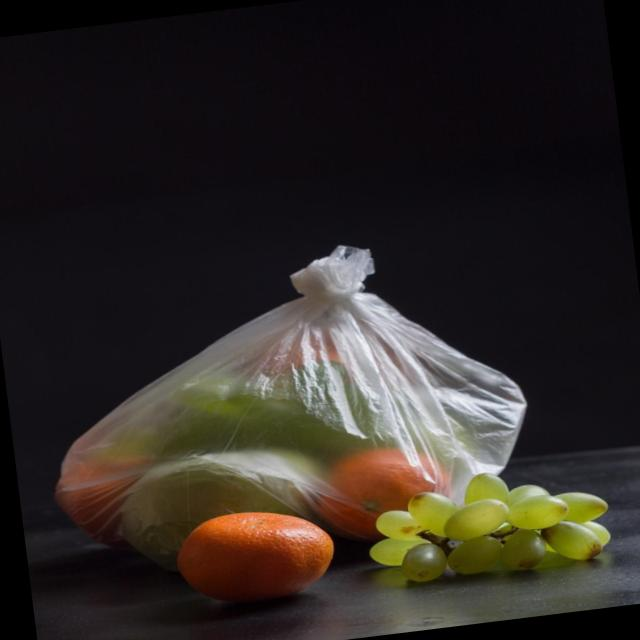plastic_bag: (24, 229, 546, 586)
